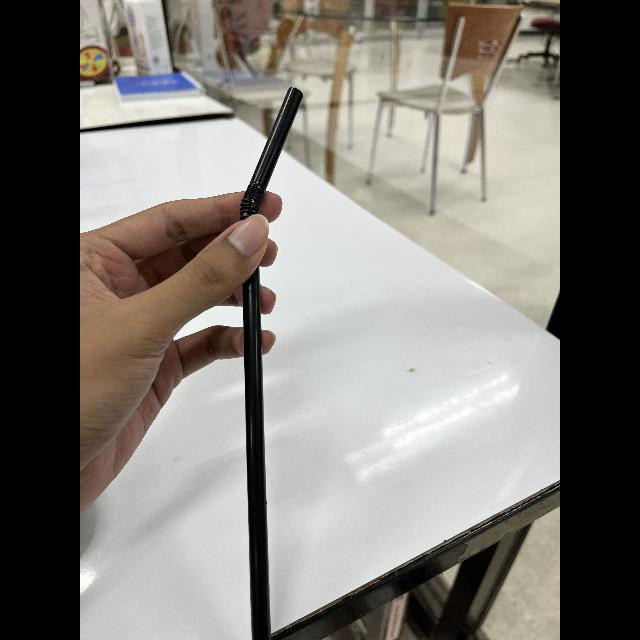straw: (240, 85, 304, 640)
